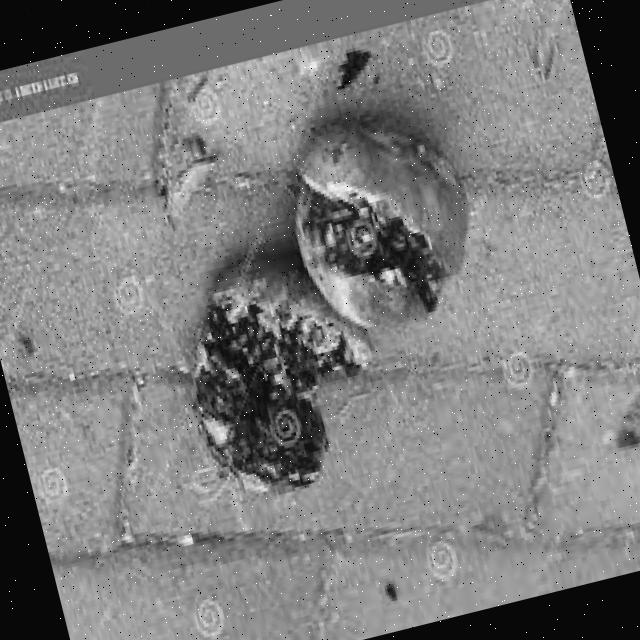overripe: (156, 232, 407, 517), (264, 88, 502, 358)
